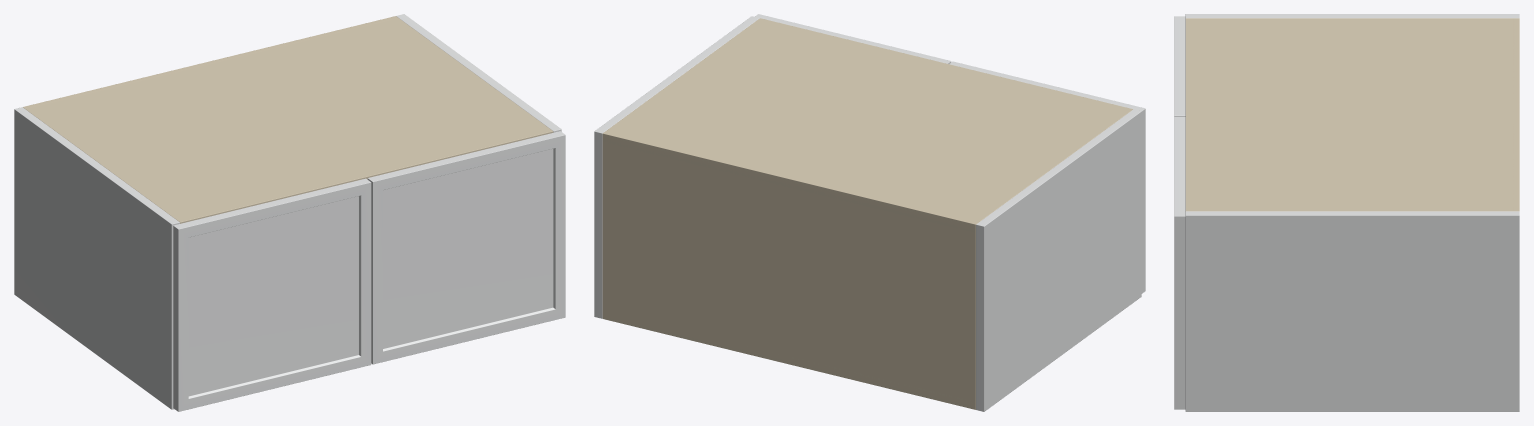
The model's file is oppein-ply-ssw-w331524.glb.
3 renders of one model, left to right at view 1: azimuth 30°, elevation 25°; view 2: azimuth 150°, elevation 25°; view 3: azimuth 270°, elevation 25°, orthographic. The views are drawn at different scales.
Parts seen in each view (by area): view 1: Cabinet top, Door, Door.001, Cabinet side, Cabinet side.001, Cabinet back; view 2: Cabinet back, Cabinet top, Cabinet side, Cabinet side.001, Door, Cabinet bottom, Door.001; view 3: Cabinet side.001, Cabinet top, Door.001, Cabinet side, Cabinet back, Door.
Boxes of the visible parts, left/top/right/bottom form: Cabinet top: left=23, top=17, right=553, bottom=223; Door: left=173, top=178, right=371, bottom=411; Door.001: left=367, top=131, right=565, bottom=364; Cabinet side: left=14, top=107, right=179, bottom=409; Cabinet side.001: left=396, top=14, right=561, bottom=132; Cabinet back: left=23, top=16, right=398, bottom=108; Cabinet back: left=602, top=133, right=978, bottom=409; Cabinet top: left=602, top=18, right=1132, bottom=232; Cabinet side: left=976, top=109, right=1141, bottom=411; Cabinet side.001: left=594, top=16, right=759, bottom=318; Door: left=949, top=61, right=1145, bottom=293; Cabinet bottom: left=602, top=318, right=975, bottom=409; Door.001: left=755, top=14, right=951, bottom=63; Cabinet side.001: left=1185, top=211, right=1519, bottom=411; Cabinet top: left=1185, top=18, right=1519, bottom=211; Door.001: left=1174, top=116, right=1185, bottom=409; Cabinet side: left=1185, top=14, right=1519, bottom=18; Cabinet back: left=1513, top=18, right=1519, bottom=211; Door: left=1174, top=16, right=1185, bottom=116.
Bounding box in the file's own units: 0.8382 × 0.381 × 0.6064.
